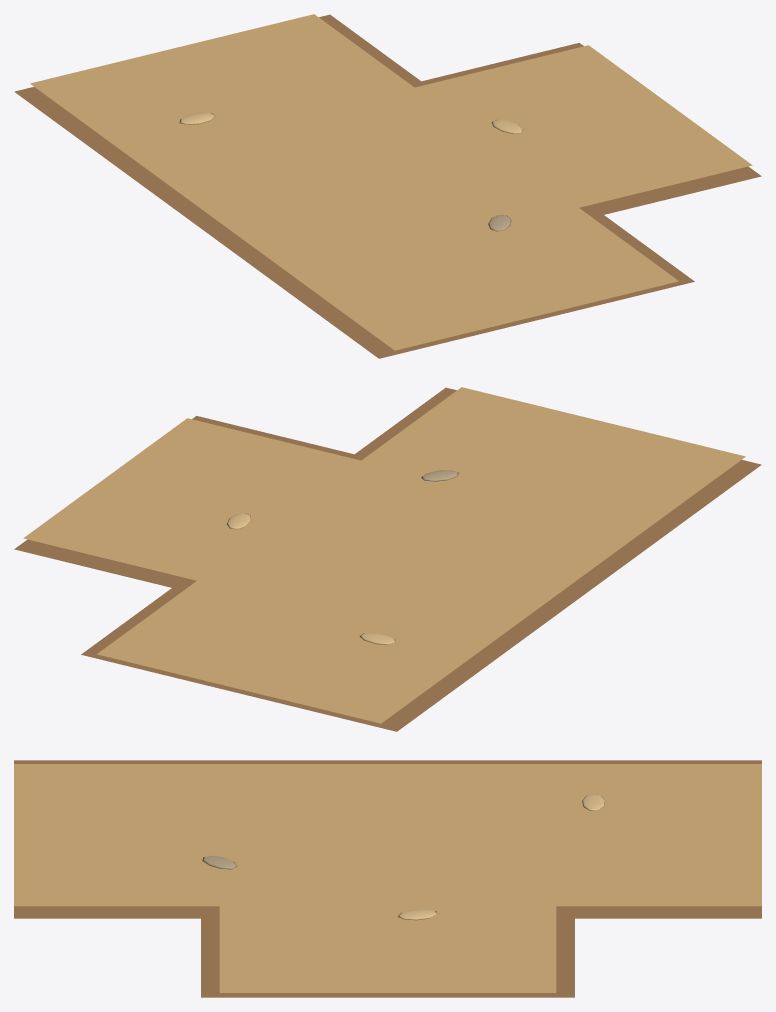
Rendered from road-junction.glb.
3 renders of one model, top to bottom at view 1: azimuth 30°, elevation 25°; view 2: azimuth 150°, elevation 25°; view 3: azimuth 270°, elevation 25°, orthographic. The views are drawn at different scales.
Parts seen in each view (by area): view 1: road-junction_dirt, road-junction_dirtEdge, road-junction_dirtLight; view 2: road-junction_dirt, road-junction_dirtEdge, road-junction_dirtLight; view 3: road-junction_dirt, road-junction_dirtEdge, road-junction_dirtLight.
Boxes of the visible parts, box(x1,y1,x2,y2) form: road-junction_dirt: box(30, 14, 752, 350); road-junction_dirtEdge: box(14, 14, 761, 358); road-junction_dirtLight: box(179, 112, 523, 133); road-junction_dirt: box(23, 387, 745, 723); road-junction_dirtEdge: box(14, 387, 761, 731); road-junction_dirtLight: box(227, 513, 395, 644); road-junction_dirt: box(14, 764, 761, 992); road-junction_dirtEdge: box(14, 760, 761, 997); road-junction_dirtLight: box(397, 793, 605, 920).
Bounding box in the file's own units: 1.5 × 0.0314 × 2.
